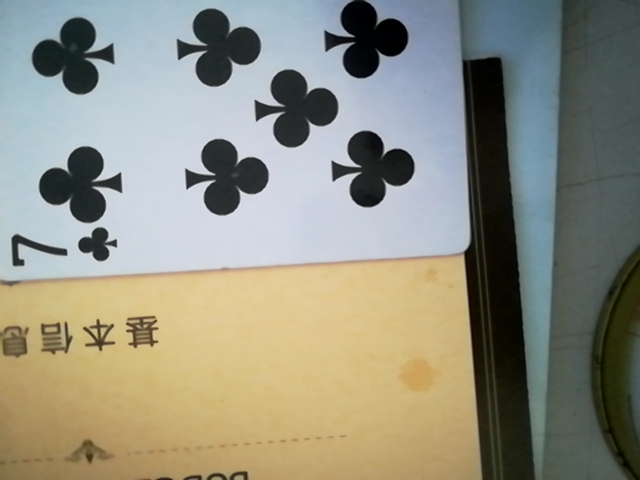mh 7: (3, 0, 475, 285)
